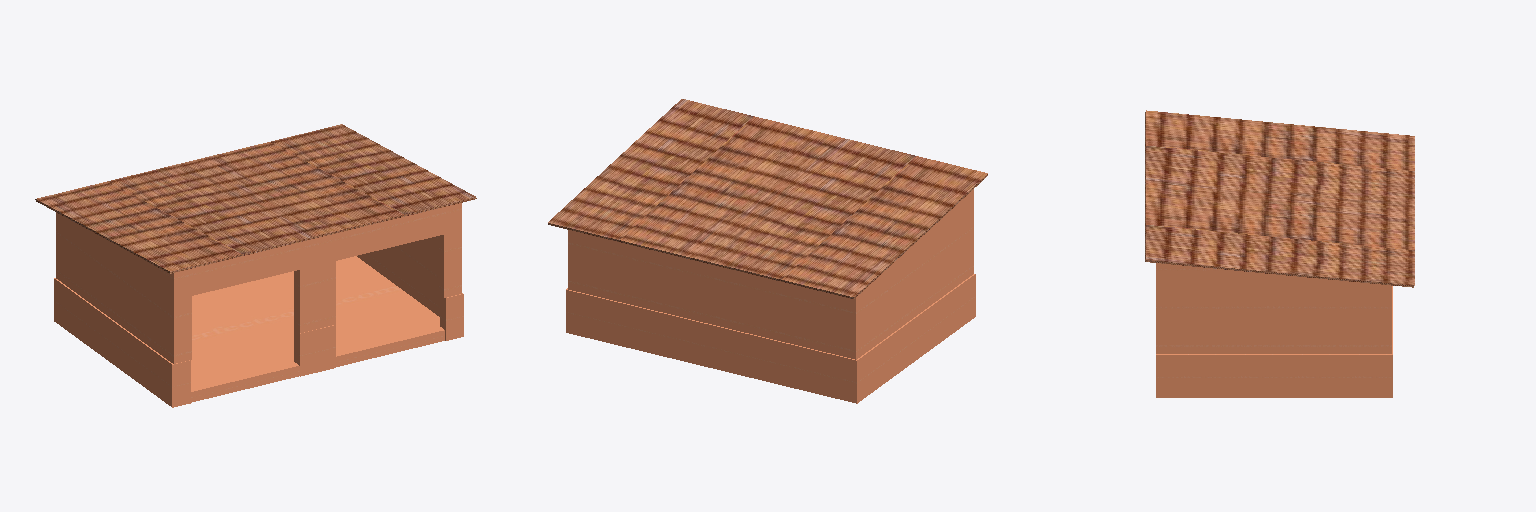
3 views of the same model, side by side, from view 1: azimuth 30°, elevation 25°; view 2: azimuth 150°, elevation 25°; view 3: azimuth 270°, elevation 25° (orthographic).
Visible parts, largest first — view 1: Box16, Box01, Box09, Box04, Box15, Box14, Box11, Box02, Box10, Box07, Box12, Box06 (+1 smaller); view 2: Box16, Box08, Box03, Box09, Box04, Box14; view 3: Box16, Box10, Box02, Box14, Box18, Box08.
Part boxes in pixels (x1,y1,x2,y2): Box16: (35,124,476,273); Box01: (191,256,444,402); Box09: (62,219,182,363); Box04: (54,278,181,407); Box15: (168,203,461,289); Box14: (56,212,461,300); Box11: (294,261,335,332); Box02: (357,248,463,338); Box10: (388,230,461,295); Box07: (294,325,335,376); Box12: (438,232,452,297); Box06: (440,296,454,340); Box16: (548,99,987,298); Box08: (568,230,861,359); Box03: (575,291,847,400); Box09: (862,210,973,354); Box04: (848,274,975,403); Box14: (865,200,973,289); Box16: (1145,110,1414,287); Box10: (1156,290,1379,353); Box02: (1156,350,1392,397); Box14: (1156,280,1391,289); Box18: (1163,264,1327,279); Box08: (1380,290,1391,353).
Bounding box in the file's own units: 301 × 133 × 229.
2 materials, 2 textured.